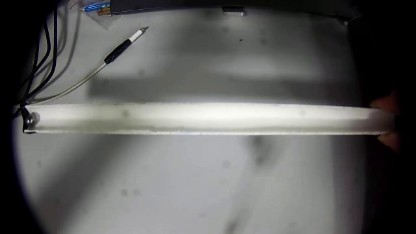gangzhu: (27, 112, 35, 127)
